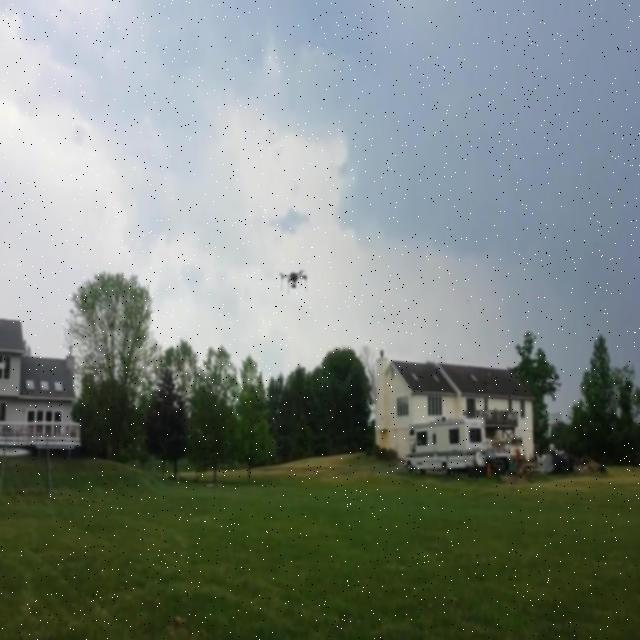UAV: (279, 270, 307, 295)
